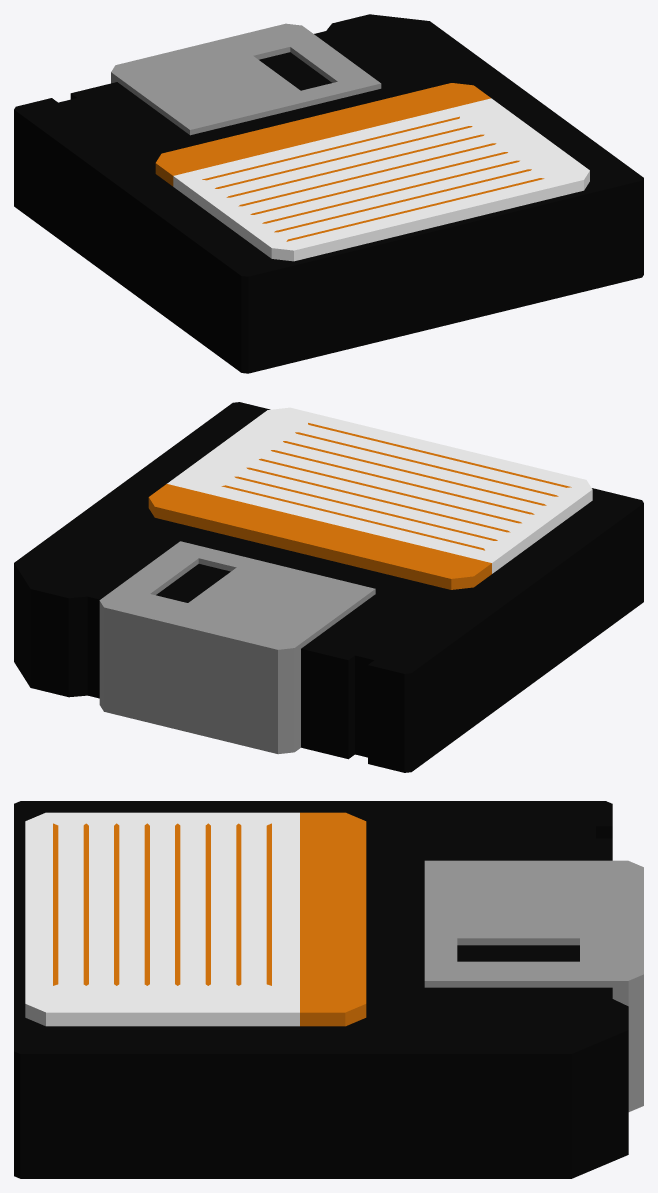
File: chip.fbx
The picture shows the model from 3 angles, top to bottom: view 1: azimuth 30°, elevation 25°; view 2: azimuth 150°, elevation 25°; view 3: azimuth 270°, elevation 25°; orthographic projection. The views are drawn at different scales.
Parts seen in each view (by area): view 1: Plane; view 2: Plane; view 3: Plane.
Part boxes in pixels (left/top/right/bottom): Plane: left=14, top=14, right=643, bottom=373; Plane: left=14, top=402, right=643, bottom=772; Plane: left=14, top=801, right=643, bottom=1178.
Size of the model in its own units: 200 by 51.14 by 211.
